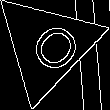O_SW: (14, 12, 80, 80)
